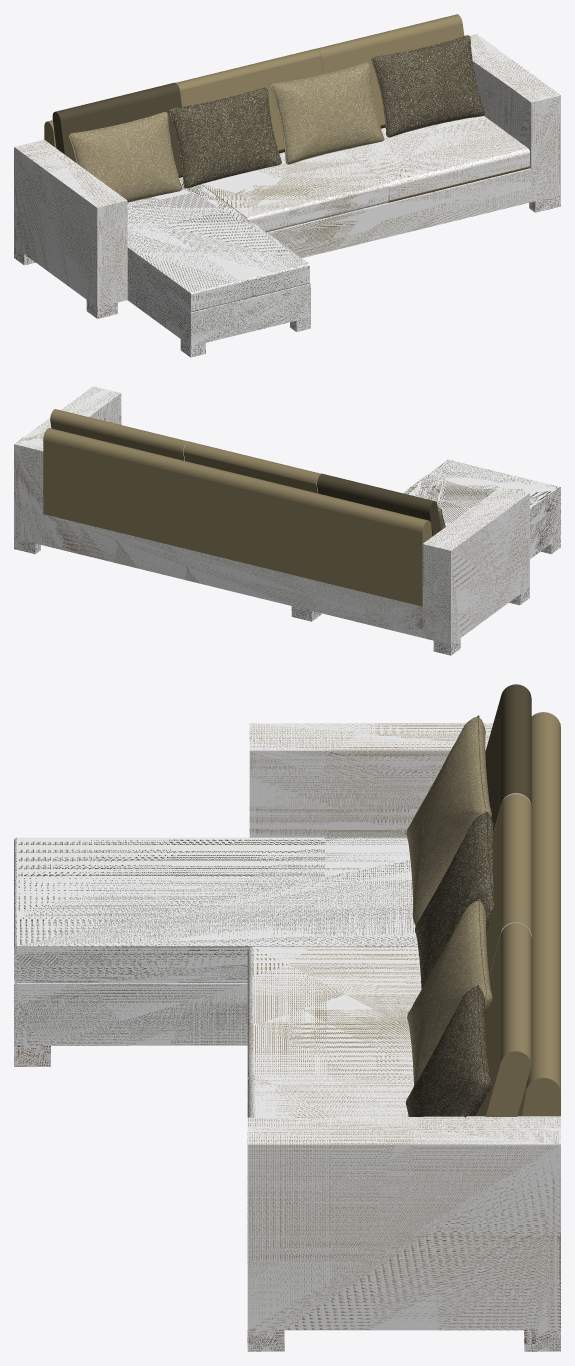
Rendered from myClass.obj.
3 views of the same model, one above another, from view 1: azimuth 30°, elevation 25°; view 2: azimuth 150°, elevation 25°; view 3: azimuth 270°, elevation 25° (orthographic). The views are drawn at different scales.
Parts seen in each view (by area): view 1: SketchUp_ID3, SketchUp.003_ID25, SketchUp.030_ID204, SketchUp.029_ID196, SketchUp.028_ID188, SketchUp.027_ID175, SketchUp.008_ID57, SketchUp.006_ID45, SketchUp.007_ID51; view 2: SketchUp_ID3, SketchUp.003_ID25, SketchUp.008_ID57, SketchUp.007_ID51, SketchUp.006_ID45; view 3: SketchUp_ID3, SketchUp.003_ID25, SketchUp.027_ID175, SketchUp.007_ID51, SketchUp.030_ID204, SketchUp.029_ID196, SketchUp.028_ID188, SketchUp.008_ID57, SketchUp.006_ID45, SketchUp.016_ID109, SketchUp.017_ID115, SketchUp.025_ID163.
Boxes of the visible parts, left/top/right/bottom form: SketchUp_ID3: left=14, top=34, right=560, bottom=307; SketchUp.003_ID25: left=127, top=177, right=310, bottom=346; SketchUp.030_ID204: left=371, top=35, right=484, bottom=137; SketchUp.029_ID196: left=271, top=62, right=384, bottom=164; SketchUp.028_ID188: left=168, top=87, right=281, bottom=188; SketchUp.027_ID175: left=69, top=112, right=182, bottom=202; SketchUp.008_ID57: left=176, top=48, right=323, bottom=150; SketchUp.006_ID45: left=52, top=82, right=385, bottom=177; SketchUp.007_ID51: left=317, top=14, right=464, bottom=125; SketchUp_ID3: left=14, top=386, right=529, bottom=644; SketchUp.003_ID25: left=402, top=459, right=560, bottom=558; SketchUp.008_ID57: left=183, top=441, right=321, bottom=493; SketchUp.007_ID51: left=50, top=409, right=188, bottom=460; SketchUp.006_ID45: left=317, top=473, right=440, bottom=536; SketchUp_ID3: left=247, top=712, right=560, bottom=1330; SketchUp.003_ID25: left=14, top=837, right=417, bottom=1045; SketchUp.027_ID175: left=406, top=715, right=491, bottom=925; SketchUp.007_ID51: left=475, top=923, right=531, bottom=1116; SketchUp.030_ID204: left=405, top=985, right=491, bottom=1117; SketchUp.029_ID196: left=407, top=899, right=492, bottom=1085; SketchUp.028_ID188: left=415, top=811, right=493, bottom=989; SketchUp.008_ID57: left=486, top=794, right=531, bottom=975; SketchUp.006_ID45: left=485, top=684, right=531, bottom=832; SketchUp.016_ID109: left=247, top=1330, right=284, bottom=1351; SketchUp.017_ID115: left=524, top=1330, right=560, bottom=1351; SketchUp.025_ID163: left=14, top=1045, right=50, bottom=1066.
Size of the model in its own units: 17.12 by 5.19 by 9.39.
